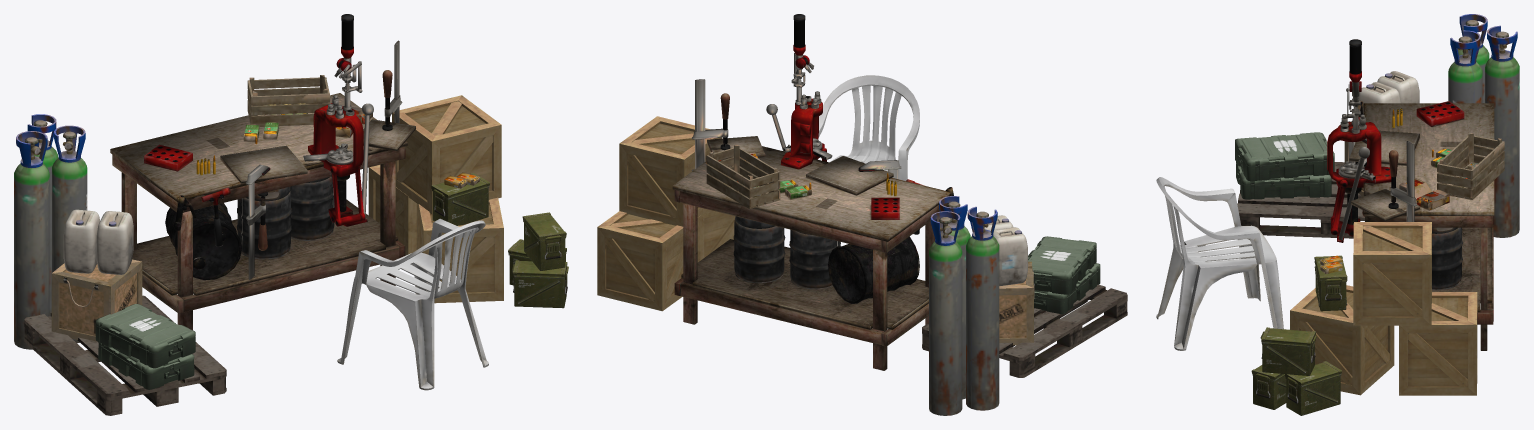
Rendered from danyaotai_cat.fbx.
3 renders of one model, left to right at view 1: azimuth 30°, elevation 25°; view 2: azimuth 150°, elevation 25°; view 3: azimuth 270°, elevation 25°, orthographic. The views are drawn at different scales.
Visible parts, largest first — view 1: mesh0.dat.desirefx.me_.obj; view 2: mesh0.dat.desirefx.me_.obj; view 3: mesh0.dat.desirefx.me_.obj.
Part boxes in pixels (<box>): mesh0.dat.desirefx.me_.obj: <box>14,14,568,415</box>; mesh0.dat.desirefx.me_.obj: <box>597,14,1127,415</box>; mesh0.dat.desirefx.me_.obj: <box>1156,14,1519,415</box>.
Bounding box in the file's own units: 1.97 × 1.18 × 1.31.
